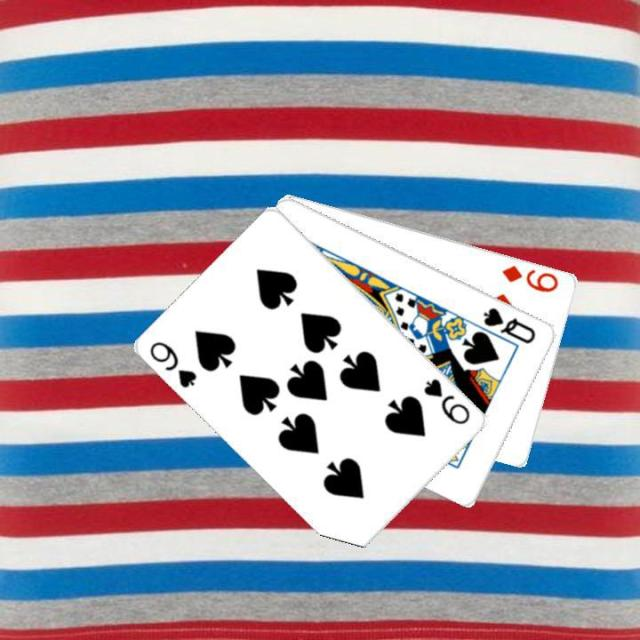9D: (499, 260, 561, 294)
9S: (419, 374, 473, 427), (146, 338, 200, 390)
QS: (479, 303, 538, 346)
